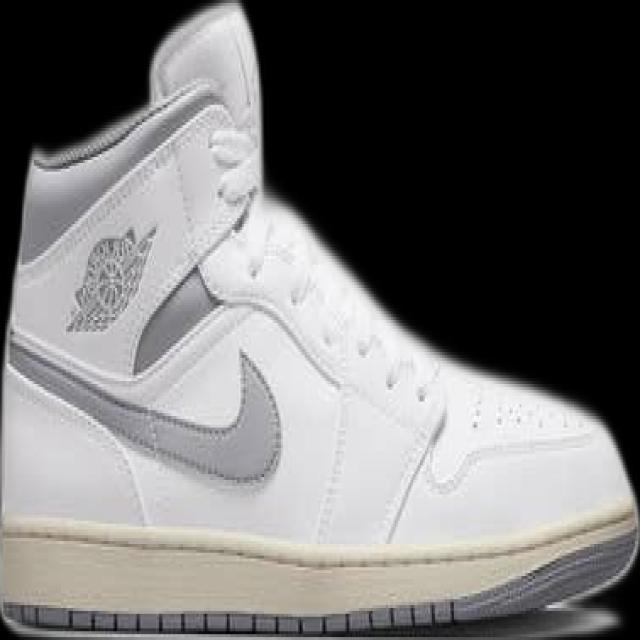J1_InsoleChar: (2, 3, 635, 633)
J1_ShoeLogo: (63, 223, 157, 334)
J1_StitchPattern: (10, 299, 595, 539), (8, 91, 285, 489), (3, 509, 635, 626), (207, 281, 449, 541), (58, 101, 256, 345), (7, 328, 284, 488), (377, 390, 593, 544), (310, 397, 449, 545), (30, 75, 220, 171), (8, 598, 463, 635), (216, 290, 342, 391), (378, 410, 448, 544), (311, 390, 353, 544), (383, 442, 431, 538), (205, 125, 259, 206), (345, 598, 456, 632)
